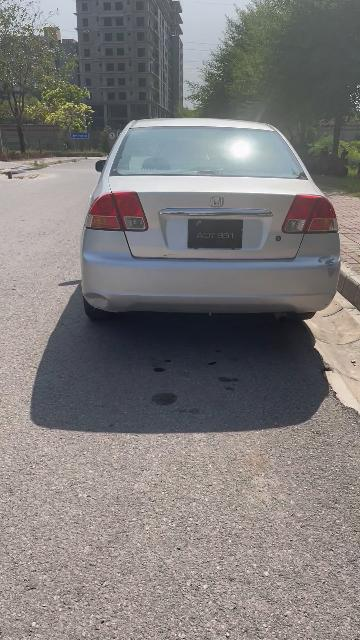plate: (189, 220, 243, 248)
